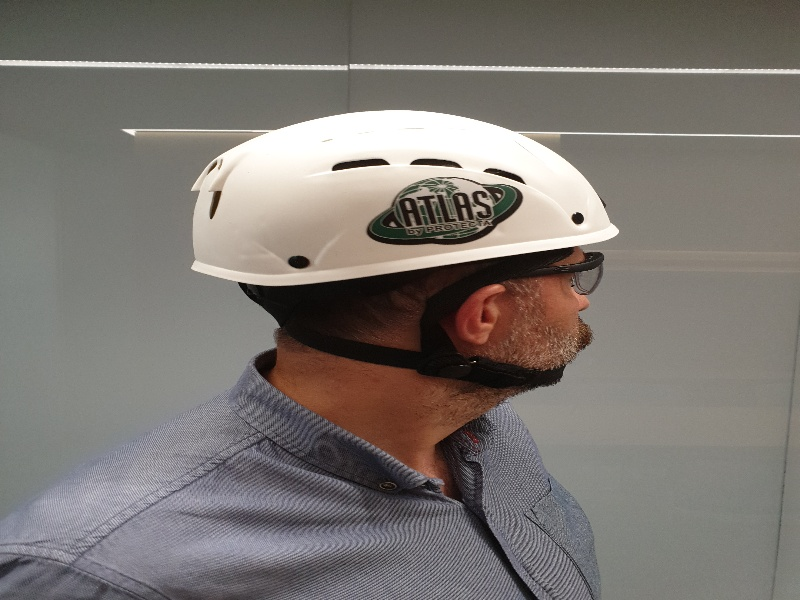Baret: (186, 102, 638, 264)
Gozluk: (522, 257, 612, 294)
